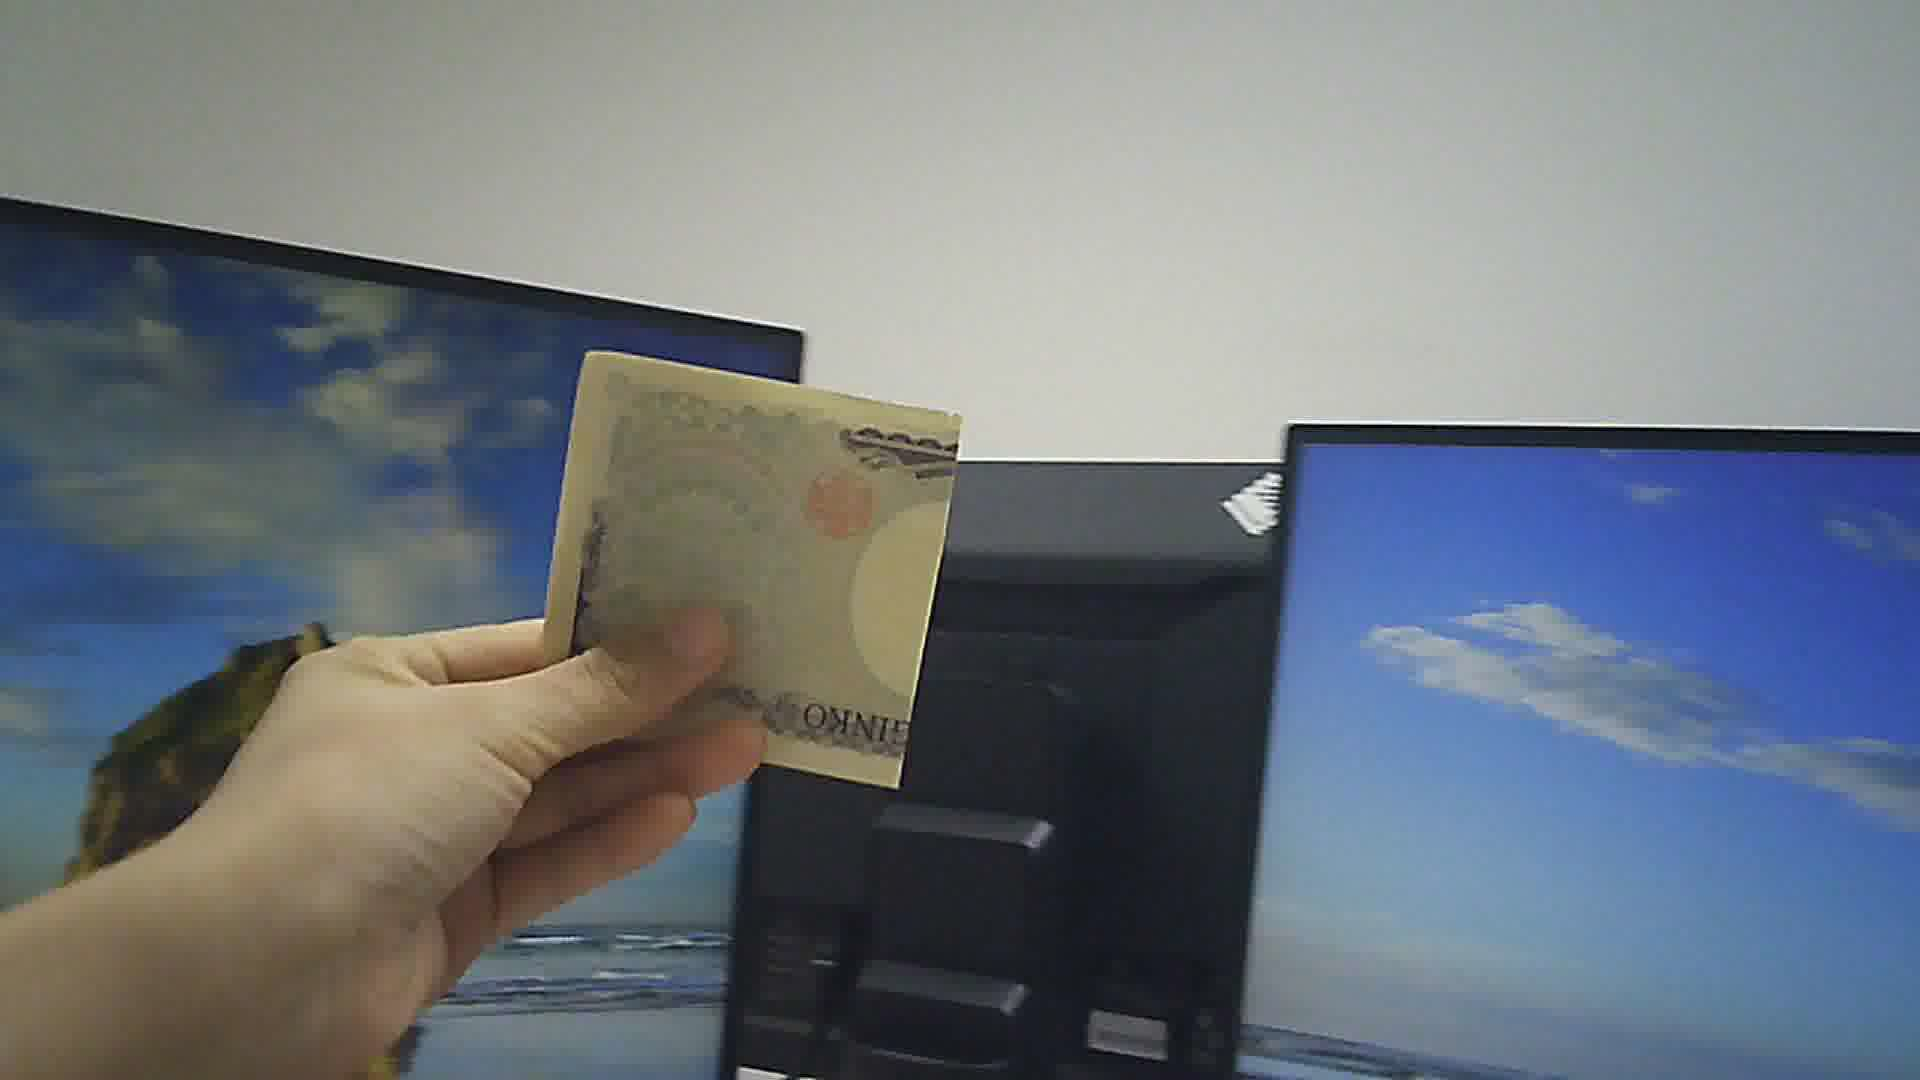5,000 Yen: (530, 343, 982, 806)
